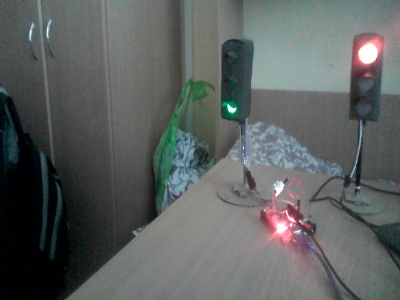trafficlight_green: (350, 36, 385, 119), (220, 43, 244, 121)
